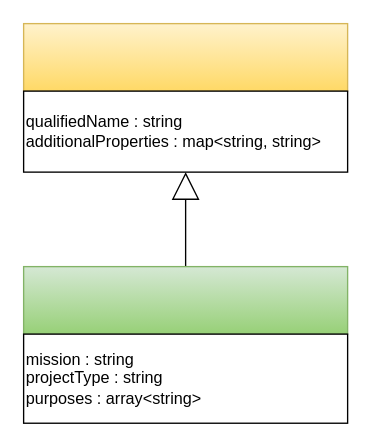
This 371x447 diagram has some shape labels left out. Here are the shapes that lost their labels. From the top down, the centre of each, then its label:
At (x=185, y=56): "«entity» Referenceable".
At (x=185, y=299): "«entity» ProjectCharter".
